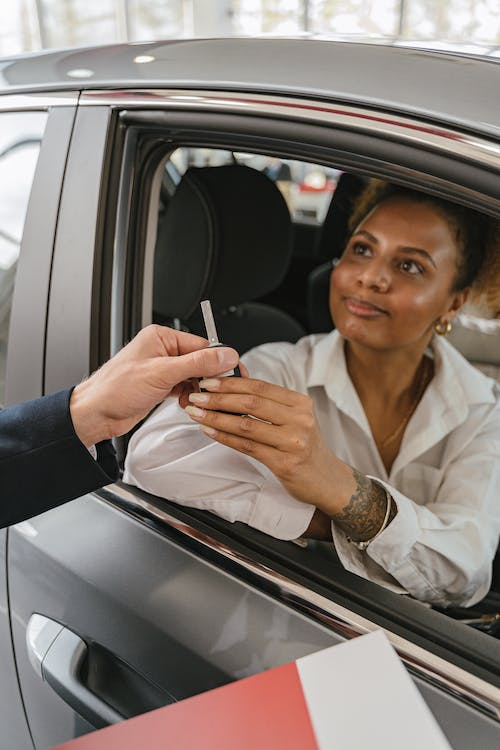key: (191, 299, 248, 403)
